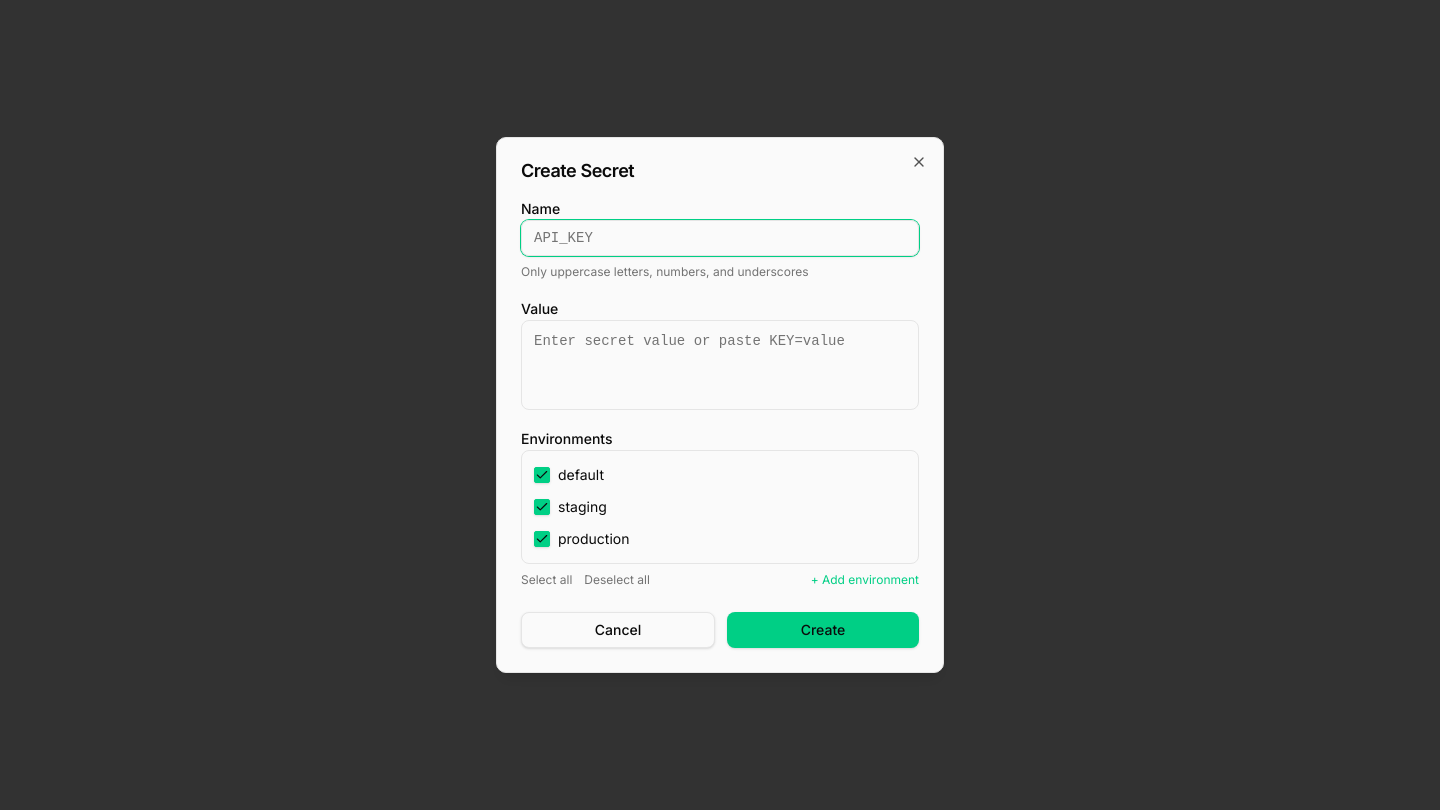
Test case: SecretModal › add new environment › should add new environment and select it
The width and height of the screenshot is (1440, 810).
Click the button "+ Add environment".
click(865, 580)  # box x1=811 y1=572 x2=919 y2=588
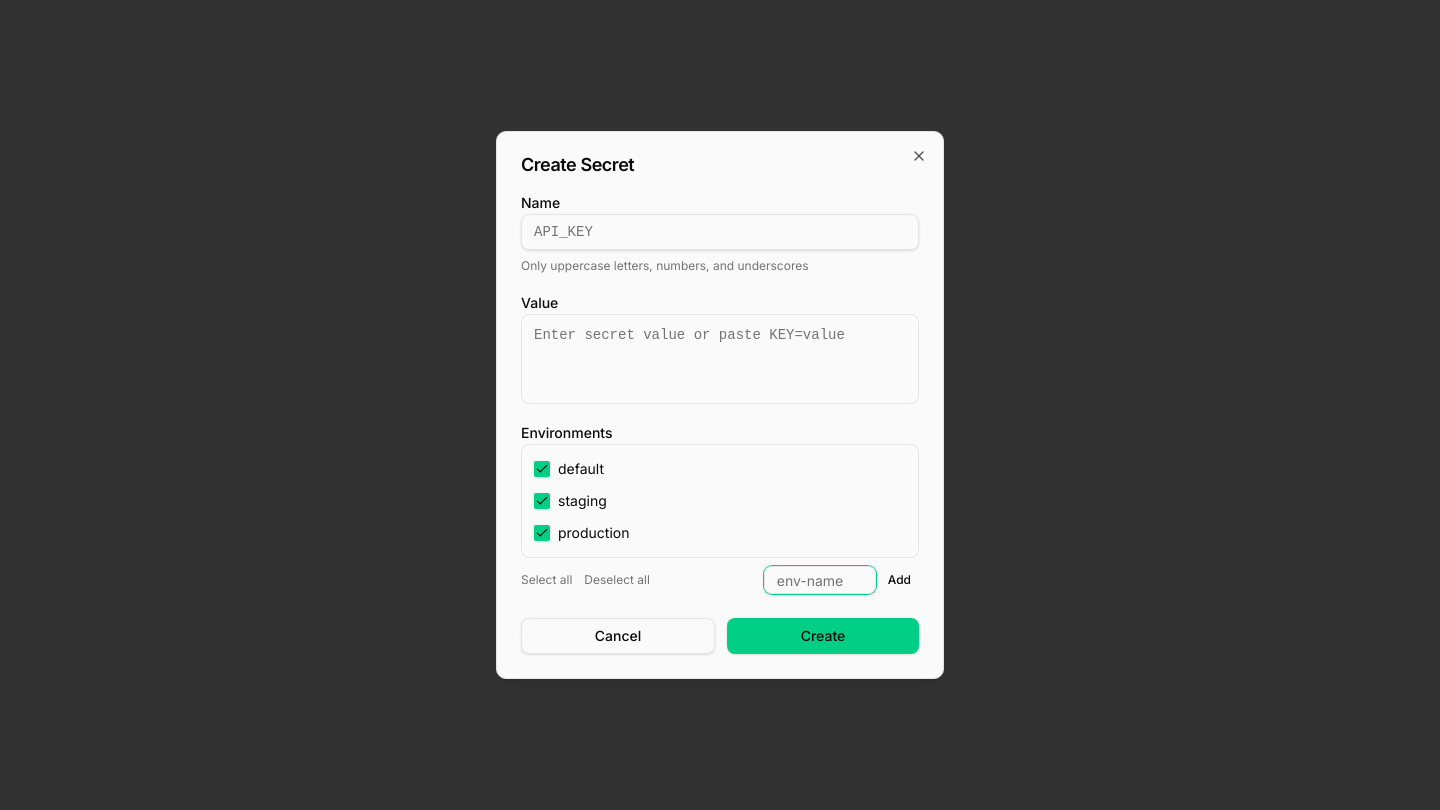
Type "testing" into the field with placeholder "env-name".
click(820, 580); type("testing")  # box x1=764 y1=566 x2=876 y2=594
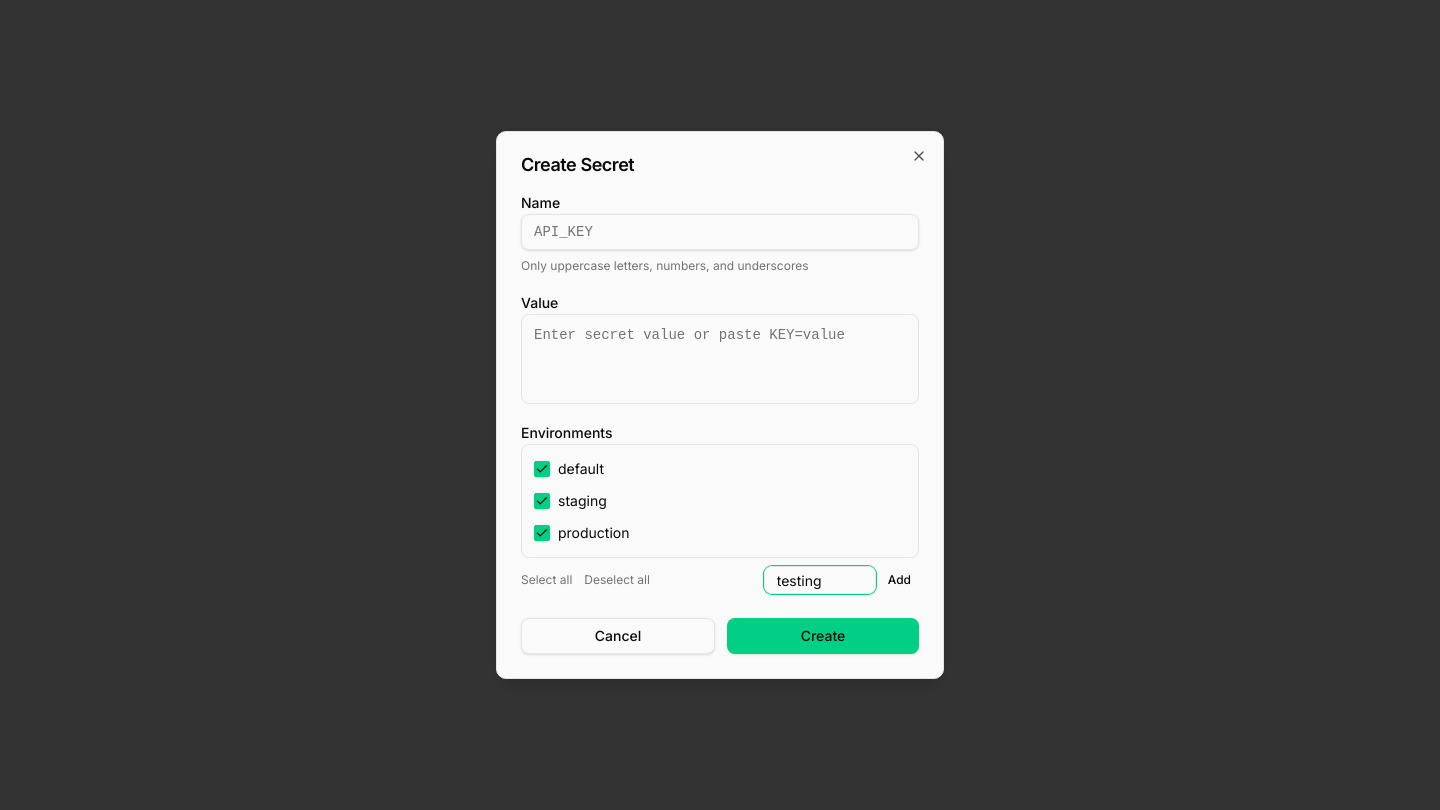
Click the button "Add".
click(899, 580)  # box x1=880 y1=566 x2=919 y2=594
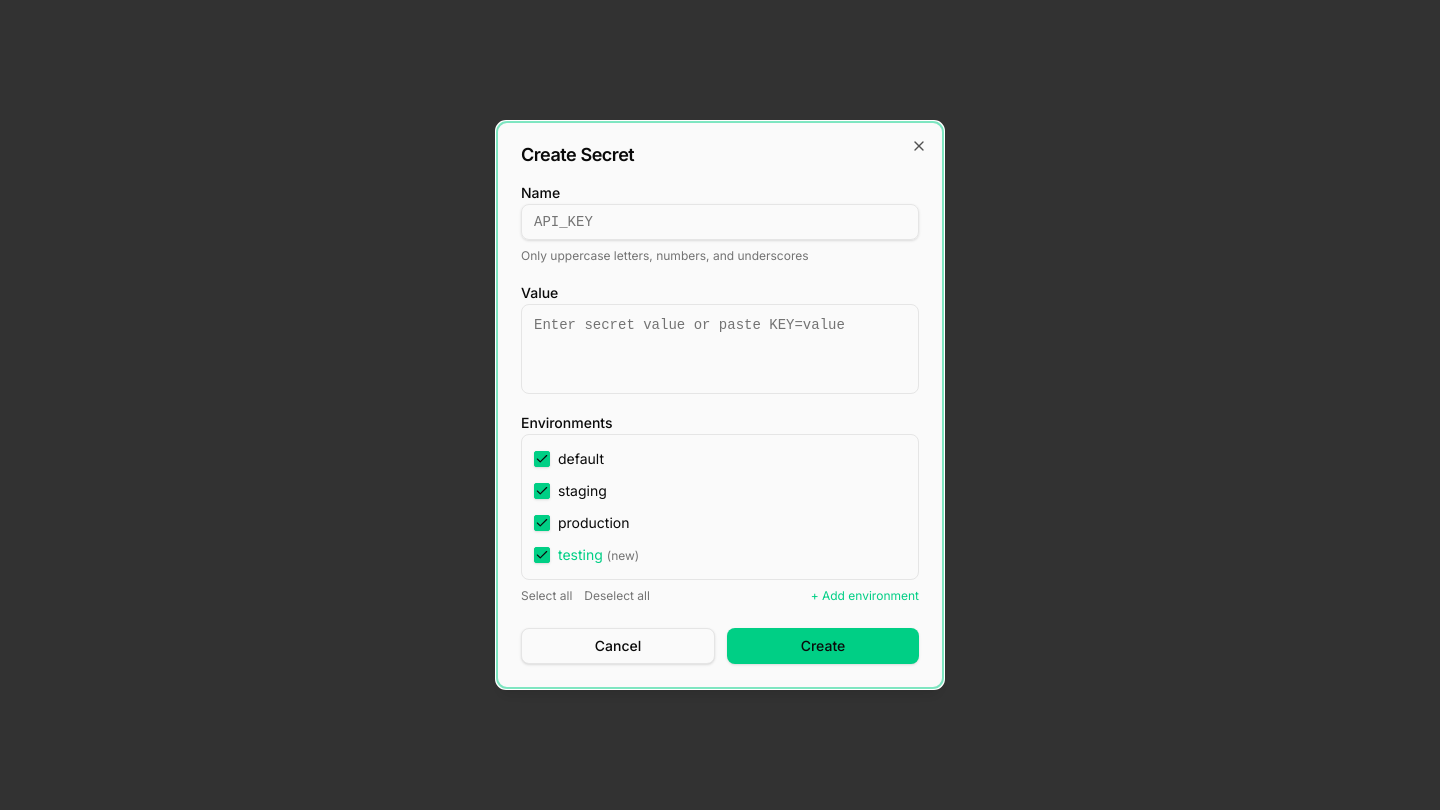
Result: the text "testing (new)" is shown at x1=558 y1=543 x2=639 y2=567
Result: the text "(new)" is shown at x1=607 y1=548 x2=639 y2=563
